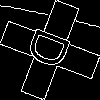D: (25, 25, 81, 75)
